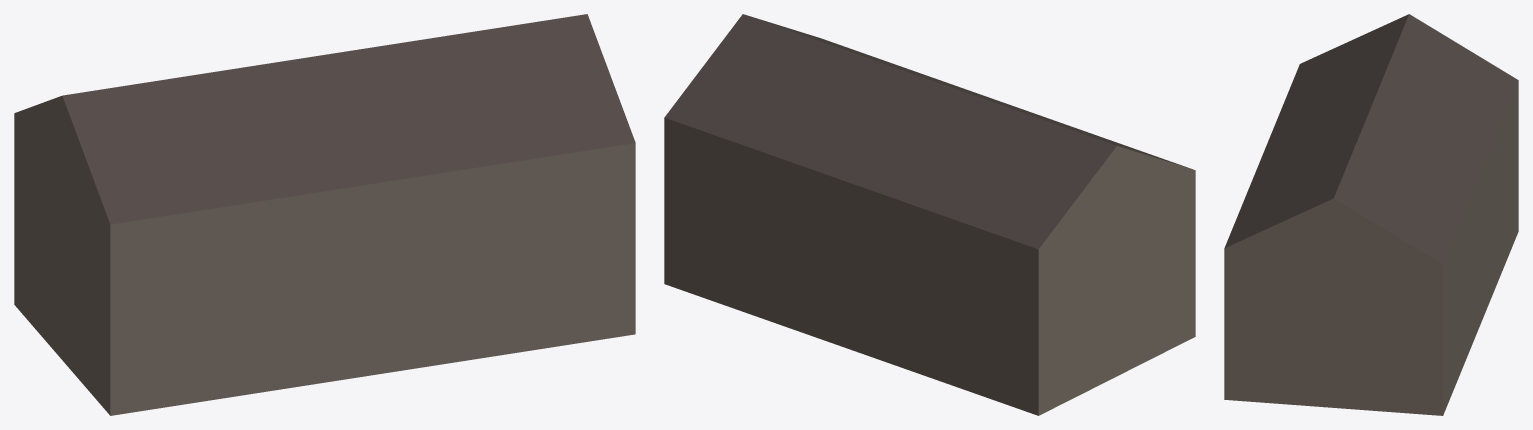
3 renders of one model, left to right at view 1: azimuth 30°, elevation 25°; view 2: azimuth 150°, elevation 25°; view 3: azimuth 270°, elevation 25°, orthographic. The views are drawn at different scales.
Visible parts, largest first — view 1: HP-w859488889; view 2: HP-w859488889; view 3: HP-w859488889.
Boxes of the visible parts, <box> form: HP-w859488889: <box>14,14,635,415</box>; HP-w859488889: <box>664,14,1195,415</box>; HP-w859488889: <box>1224,14,1518,415</box>.
Bounding box in the file's own units: 25.57 × 12.45 × 15.85.
